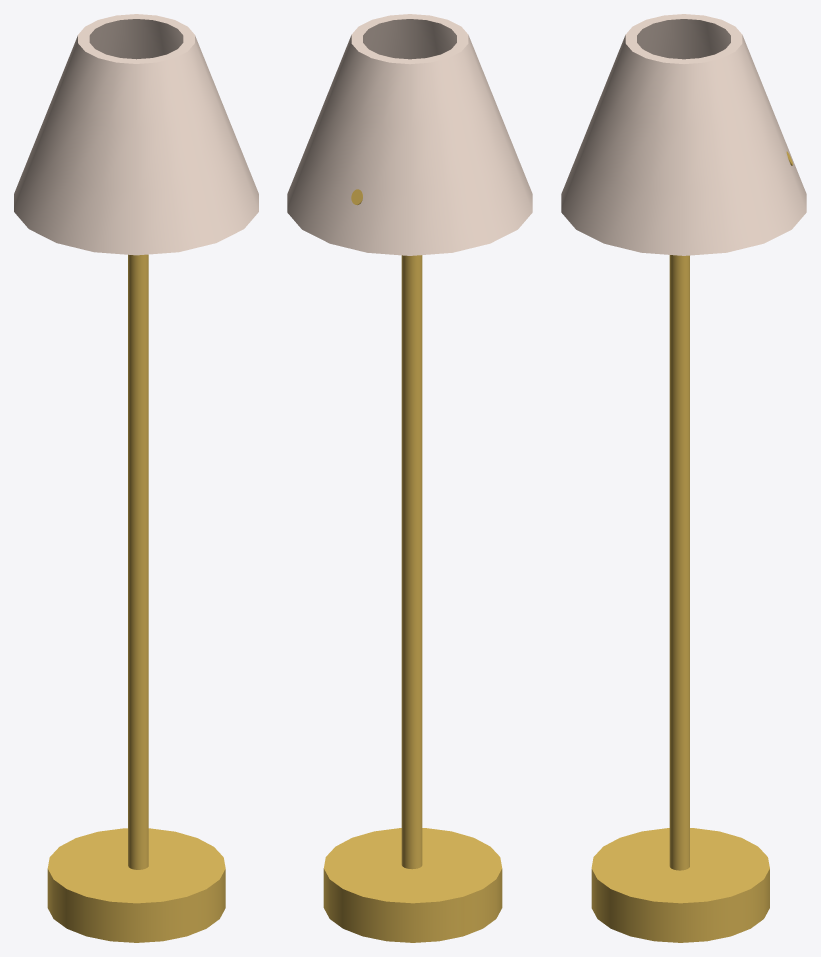
The model's file is s_standing light.fbx.
3 views of the same model, side by side, from view 1: azimuth 30°, elevation 25°; view 2: azimuth 150°, elevation 25°; view 3: azimuth 270°, elevation 25° (orthographic).
Parts seen in each view (by area): view 1: Object016; view 2: Object016; view 3: Object016.
Part boxes in pixels (x1,y1,x2,y2): Object016: (14, 14, 258, 942); Object016: (287, 14, 532, 942); Object016: (561, 14, 806, 942).
Size of the model in its own units: 29.45 by 113 by 29.
